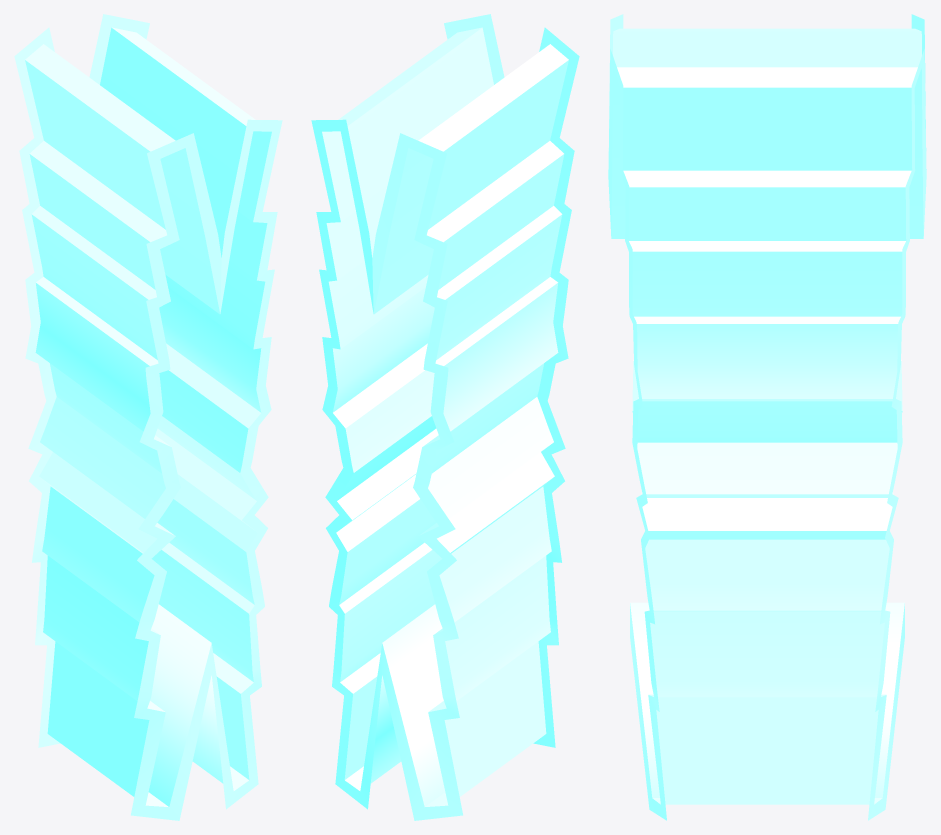
File: LESSERAFIM_LICHT.glb
The picture shows the model from 3 angles, left to right: view 1: azimuth 30°, elevation 25°; view 2: azimuth 150°, elevation 25°; view 3: azimuth 270°, elevation 25°; orthographic projection. The views are drawn at different scales.
Visible parts, largest first — view 1: LESSERAFIM_LICHT; view 2: LESSERAFIM_LICHT; view 3: LESSERAFIM_LICHT.
Part boxes in pixels (left/top/right/bottom): LESSERAFIM_LICHT: left=14, top=14, right=282, bottom=820; LESSERAFIM_LICHT: left=311, top=14, right=579, bottom=820; LESSERAFIM_LICHT: left=608, top=14, right=926, bottom=820.
Bounding box in the file's own units: 0.0526 × 0.26 × 0.0982.
